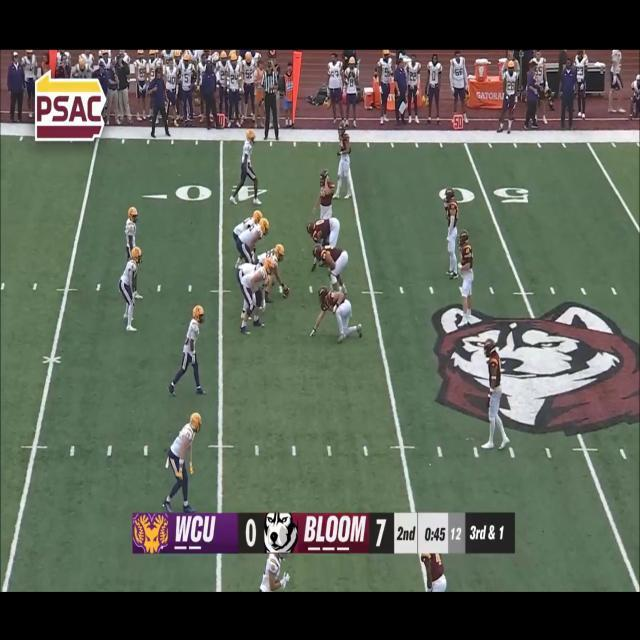football: (282, 287, 290, 300)
